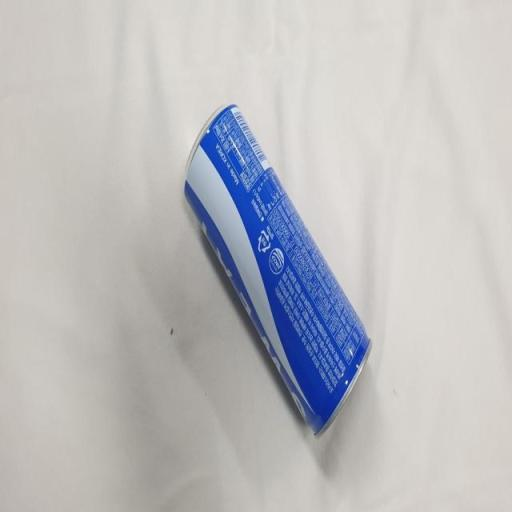metal: (179, 89, 384, 465)
